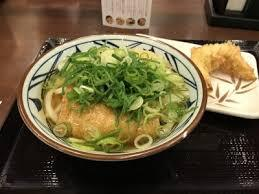kitune: (28, 39, 204, 153)
